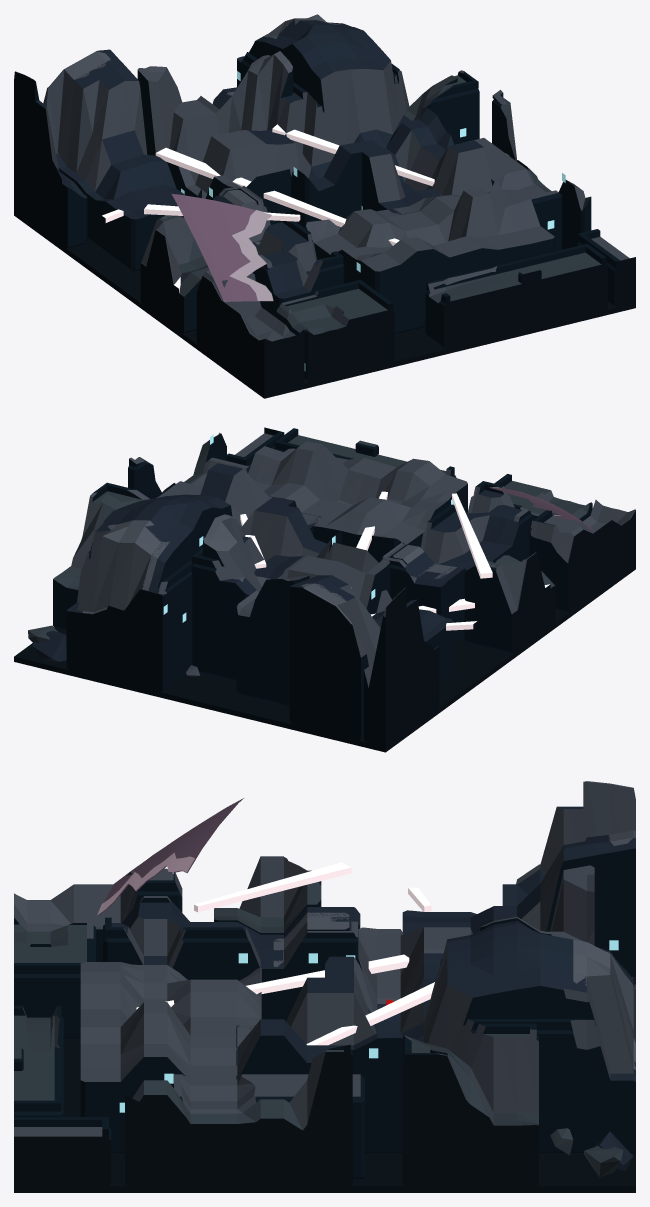
The model's file is purple_dome_mc_wreck.glb.
The picture shows the model from 3 angles, top to bottom: view 1: azimuth 30°, elevation 25°; view 2: azimuth 150°, elevation 25°; view 3: azimuth 270°, elevation 25°; orthographic projection. The views are drawn at different scales.
Parts seen in each view (by area): view 1: purple_dome_mc_wreck; view 2: purple_dome_mc_wreck; view 3: purple_dome_mc_wreck.
Part boxes in pixels (x1,y1,x2,y2): purple_dome_mc_wreck: (14, 14, 635, 398); purple_dome_mc_wreck: (14, 427, 635, 752); purple_dome_mc_wreck: (14, 781, 635, 1192).
Bounding box in the file's own units: 24 × 9.54 × 28.
